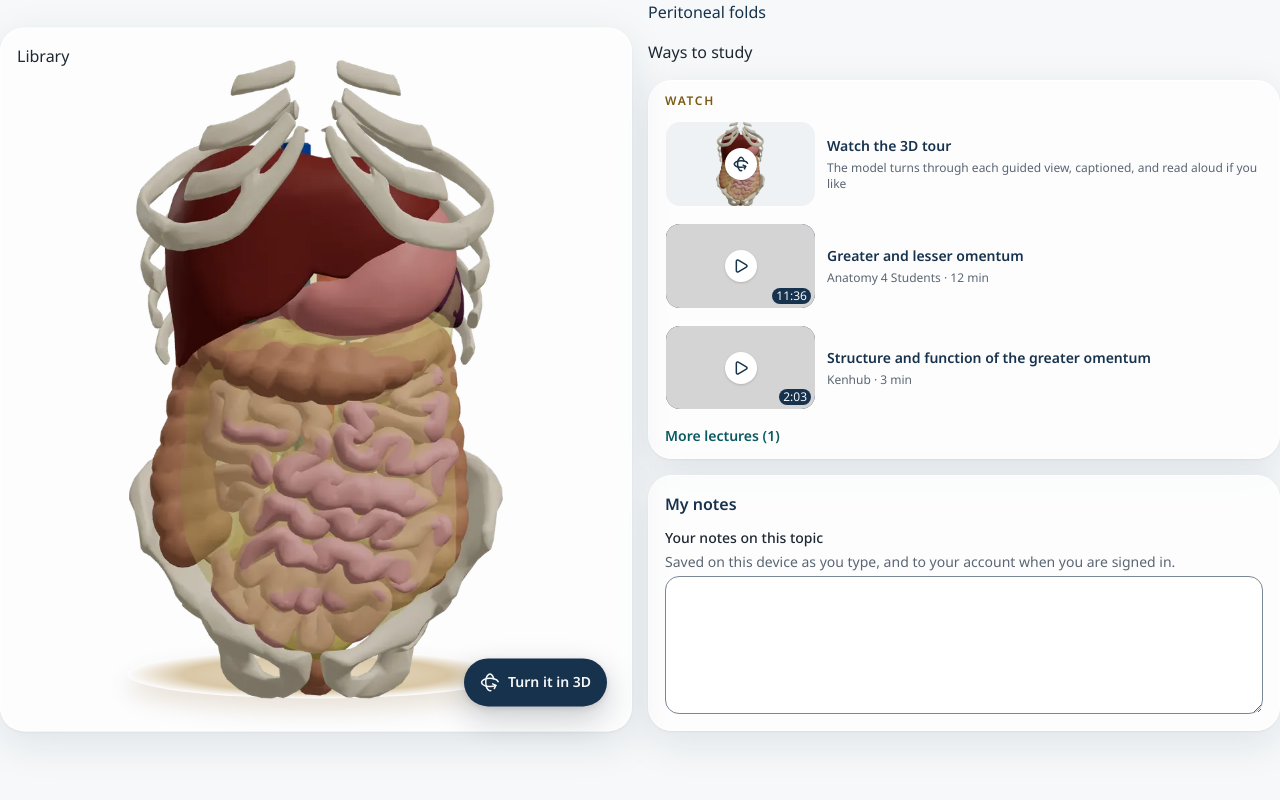
Scenario: TopicStudy › shows two lectures and folds the rest behind "More lectures"
This screenshot has width=1280, height=800.
Expected: the button "The lesser omentum" is not shown
Click the button "More lectures (1)". click: (722, 436)
box: [657,422,788,450]
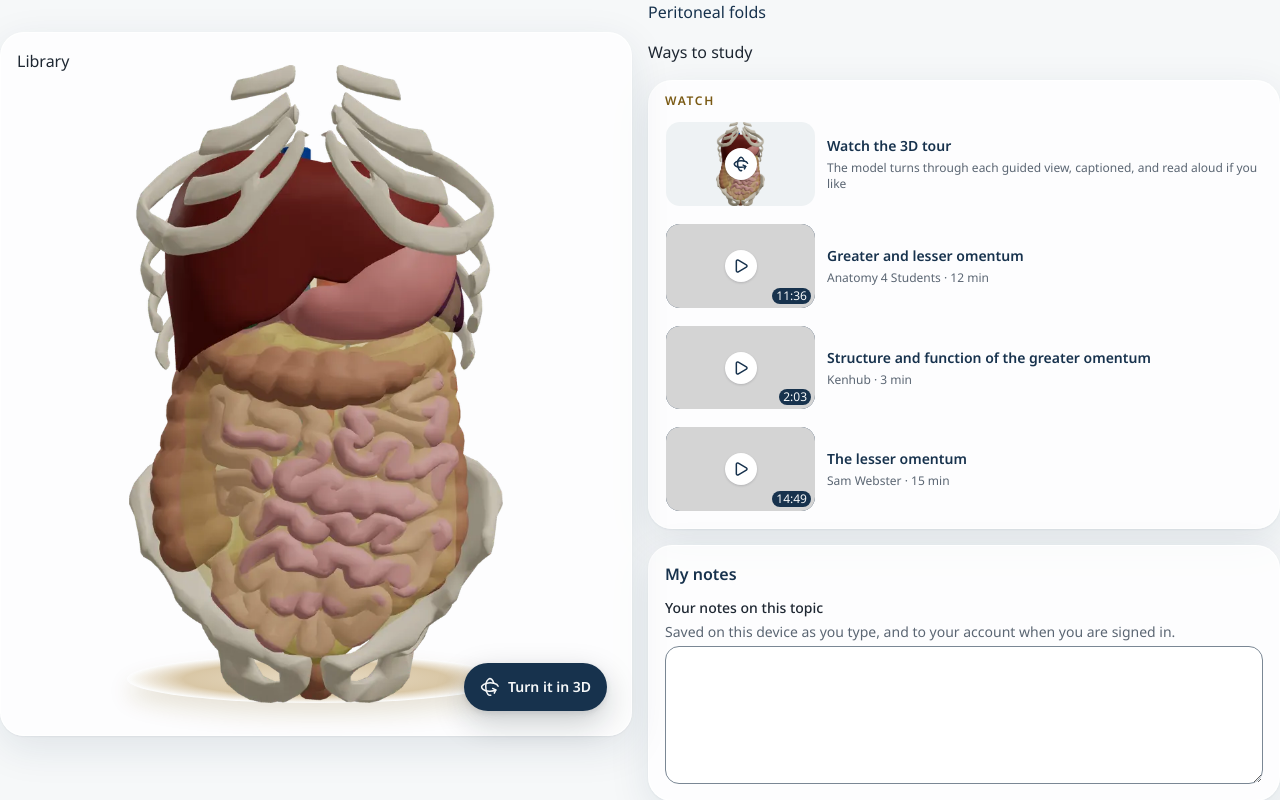
Expected: the button "14:49 The lesser omentum Sam Webster · 15 min" is shown, [657,418,1271,520]
